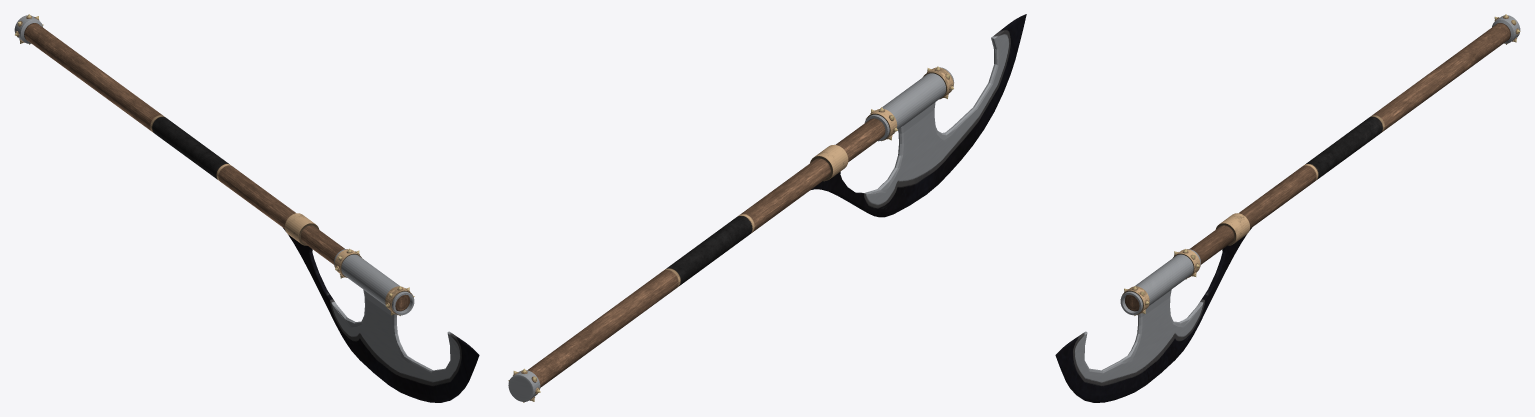
File: skeleton_axe.glb
3 renders of one model, left to right at view 1: azimuth 30°, elevation 25°; view 2: azimuth 150°, elevation 25°; view 3: azimuth 330°, elevation 25°, orthographic. The views are drawn at different scales.
Visible parts, largest first — view 1: geometry_0; view 2: geometry_0; view 3: geometry_0.
Boxes of the visible parts, bbox=[...] form: geometry_0: bbox=[14, 14, 479, 402]; geometry_0: bbox=[508, 14, 1026, 402]; geometry_0: bbox=[1055, 14, 1520, 402].
Bounding box in the file's own units: 0.1 × 0.3534 × 2.69.
1 material, 1 textured.
